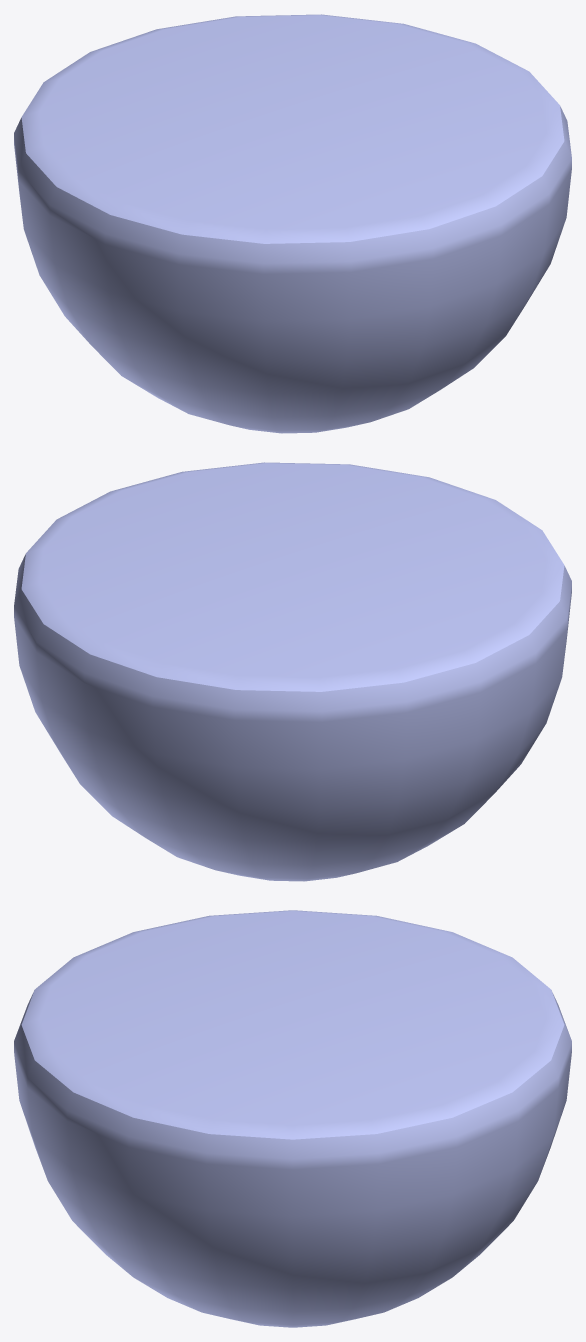
Rendered from Mesh-Liquido-Aceite-Grande.fbx.
3 renders of one model, top to bottom at view 1: azimuth 30°, elevation 25°; view 2: azimuth 150°, elevation 25°; view 3: azimuth 270°, elevation 25°, orthographic.
Parts seen in each view (by area): view 1: pasted__pCylinder6; view 2: pasted__pCylinder6; view 3: pasted__pCylinder6.
Part boxes in pixels (<box>): pasted__pCylinder6: <box>14,14,571,433</box>; pasted__pCylinder6: <box>14,462,571,881</box>; pasted__pCylinder6: <box>14,910,571,1327</box>.
Bounding box in the file's own units: 1.59 × 0.8916 × 1.59.
